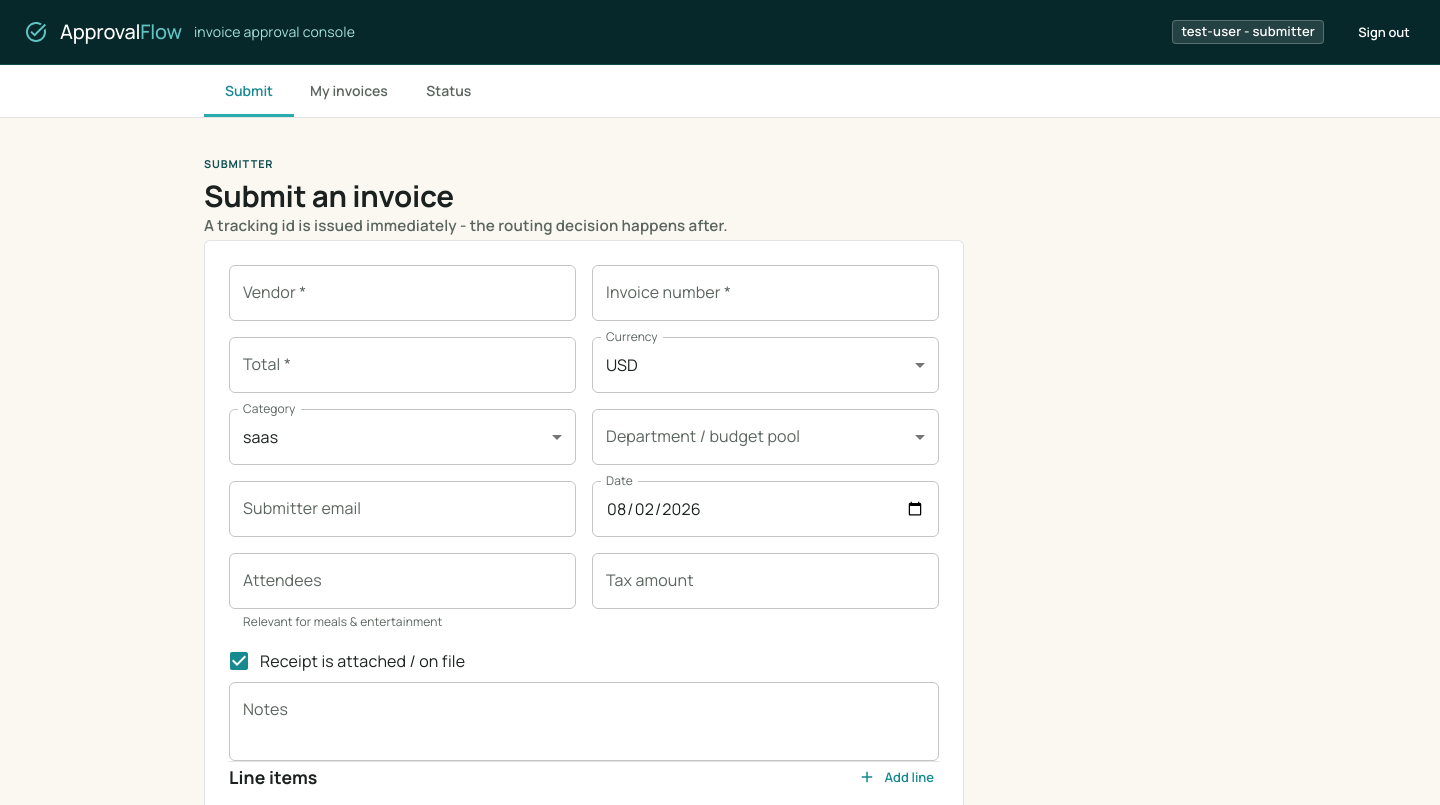
Test: App - authenticated (role-gated tabs) › navigates to the Status screen
Click the tab "Status": (449, 91) left=404, top=65, right=494, bottom=117
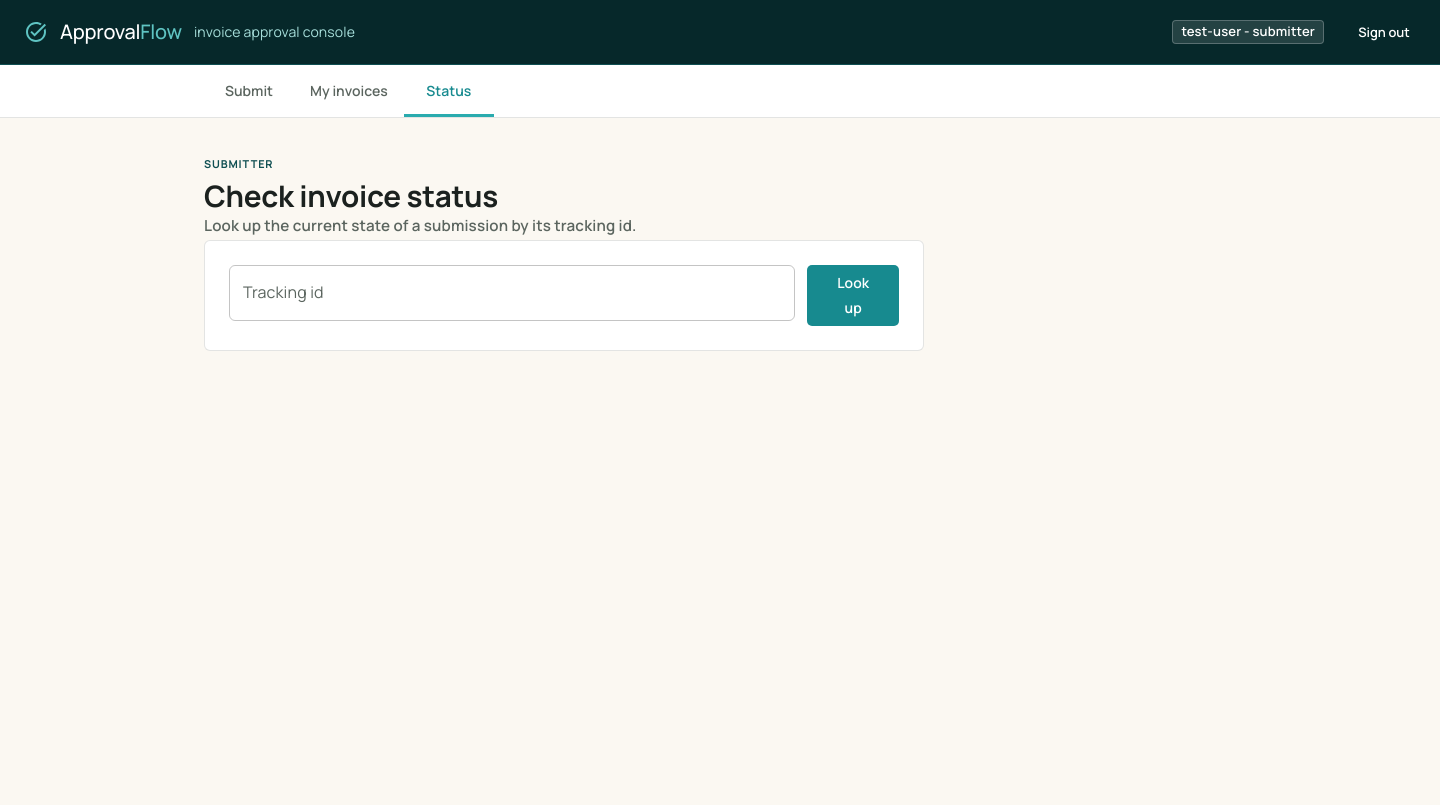
Result: the heading "Check invoice status" is shown at left=204, top=175, right=498, bottom=216
